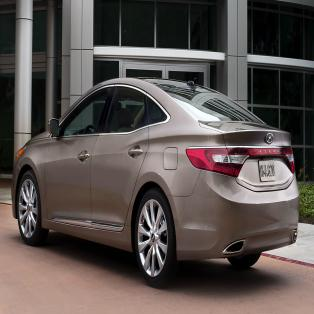Auto: (11, 74, 298, 289)
